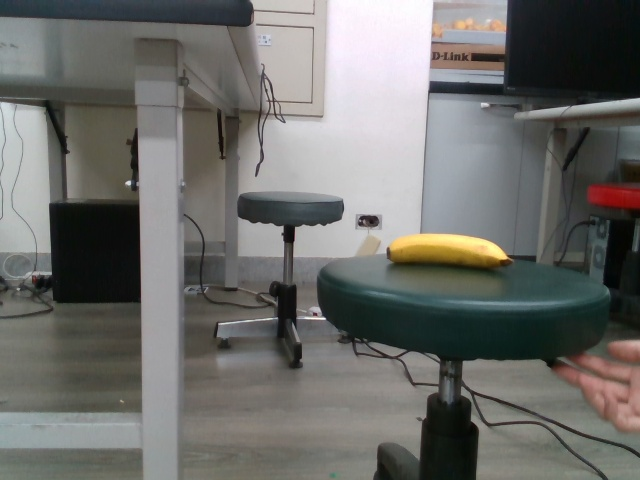banana: (385, 229, 514, 273)
